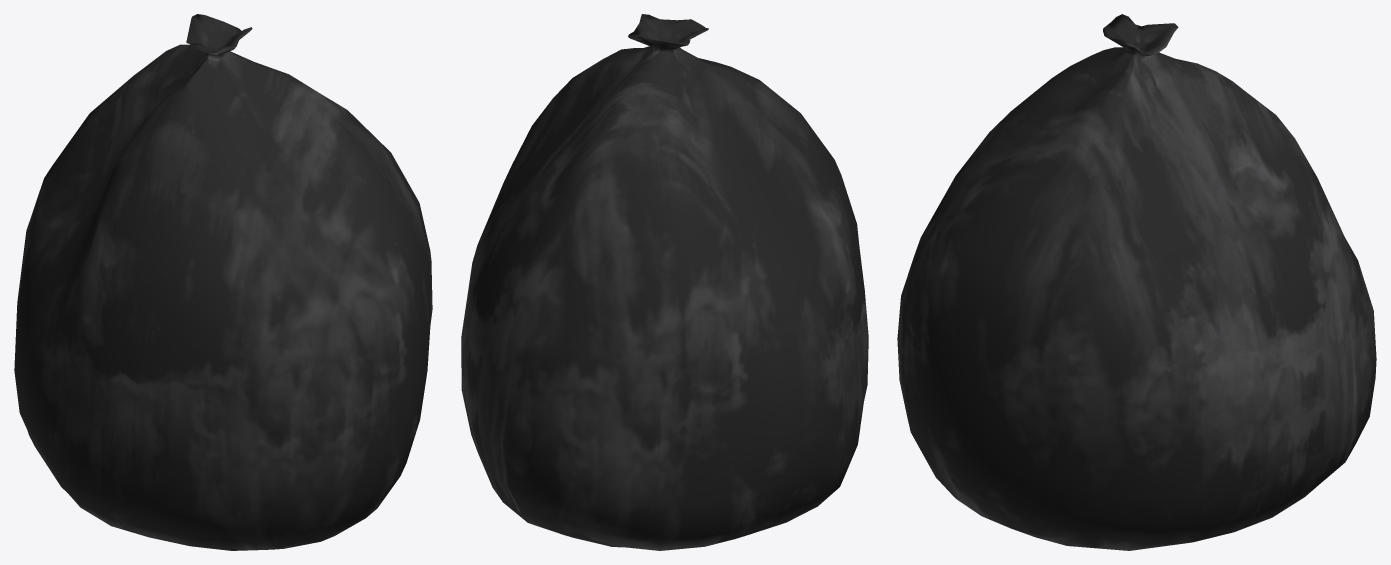
The model's file is trash_bag.glb.
3 views of the same model, side by side, from view 1: azimuth 30°, elevation 25°; view 2: azimuth 150°, elevation 25°; view 3: azimuth 270°, elevation 25° (orthographic). The views are drawn at different scales.
Parts seen in each view (by area): view 1: trash_bag; view 2: trash_bag; view 3: trash_bag.
Part boxes in pixels (left/top/right/bottom): trash_bag: left=14, top=14, right=432, bottom=550; trash_bag: left=461, top=14, right=868, bottom=550; trash_bag: left=897, top=14, right=1376, bottom=550.
Size of the model in its own units: 0.4278 by 0.5516 by 0.5039.
Materials: 1 (1 with a texture image).
